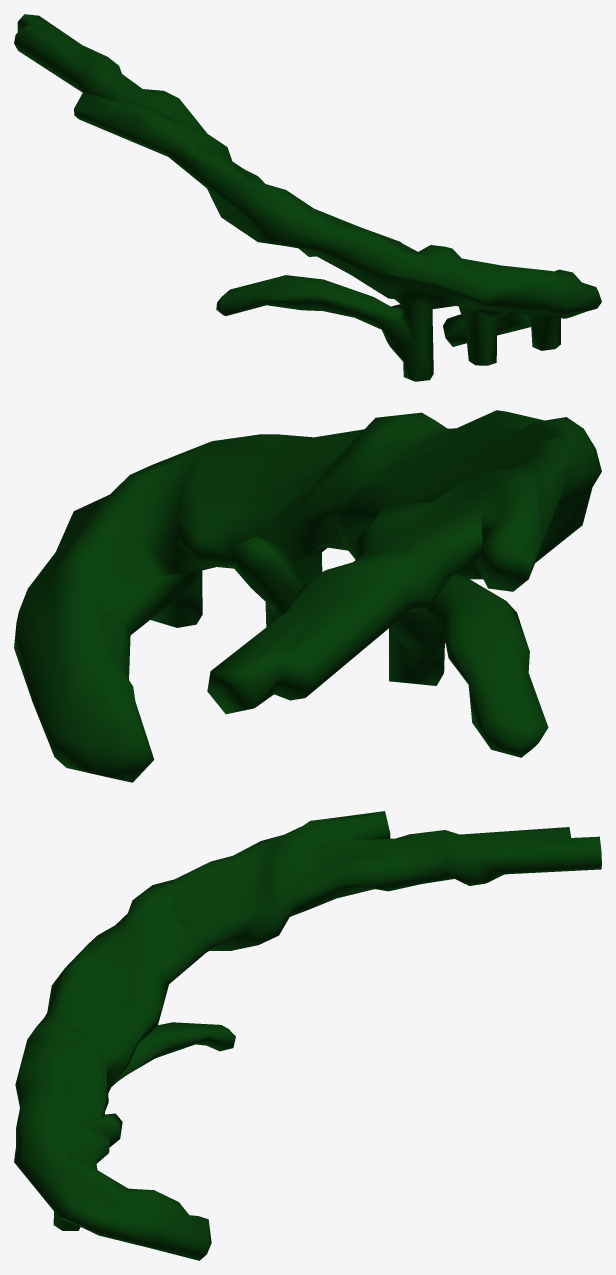
File: Plant.obj
The picture shows the model from 3 angles, top to bottom: view 1: azimuth 30°, elevation 25°; view 2: azimuth 150°, elevation 25°; view 3: azimuth 270°, elevation 25°; orthographic projection. The views are drawn at different scales.
Visible parts, largest first — view 1: test; view 2: test; view 3: test.
Boxes of the visible parts, x1,y1,x2,y2 form: test: (14,14,601,381); test: (14,410,601,782); test: (14,811,601,1260).
Size of the model in its own units: 15.09 by 9.88 by 18.43.
